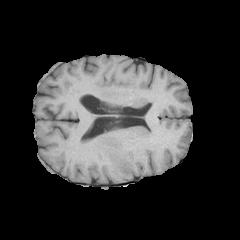glioma: (105, 137, 135, 177)
